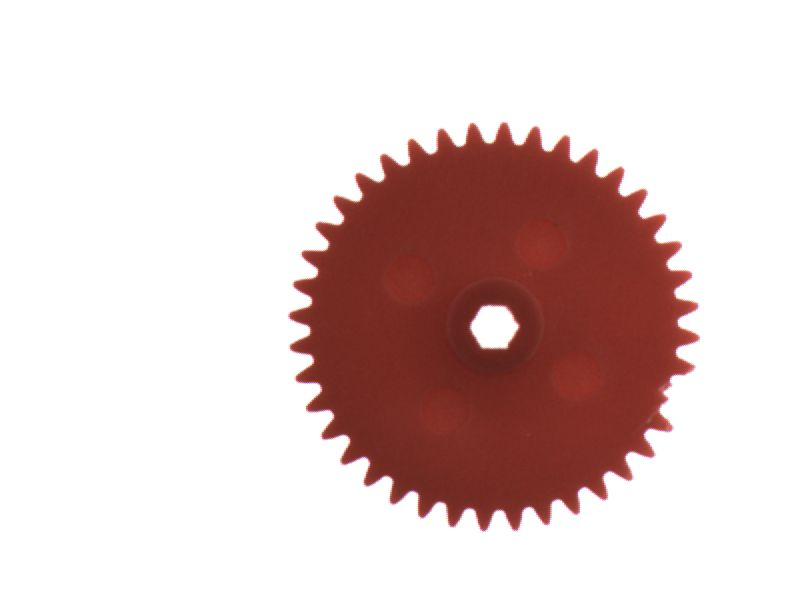defect_lack: (644, 370, 705, 425)
